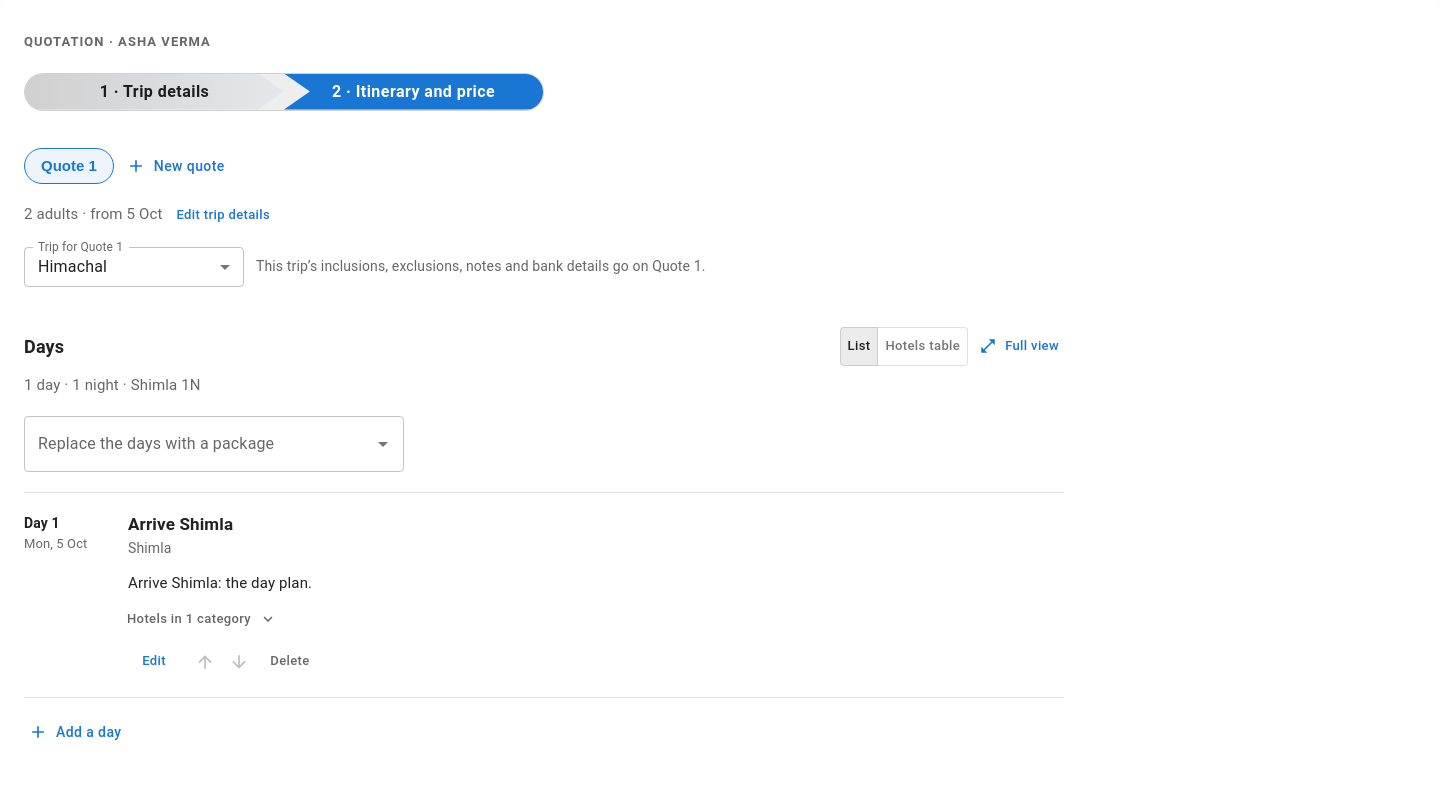
Scenario: Quotation for a verified lead › changing a quote’s trip saves it, and the quote is labelled with it
Press the mouse on the dropdown named "Trip for Quote 1" at [72, 267], box [38,257,107,276]
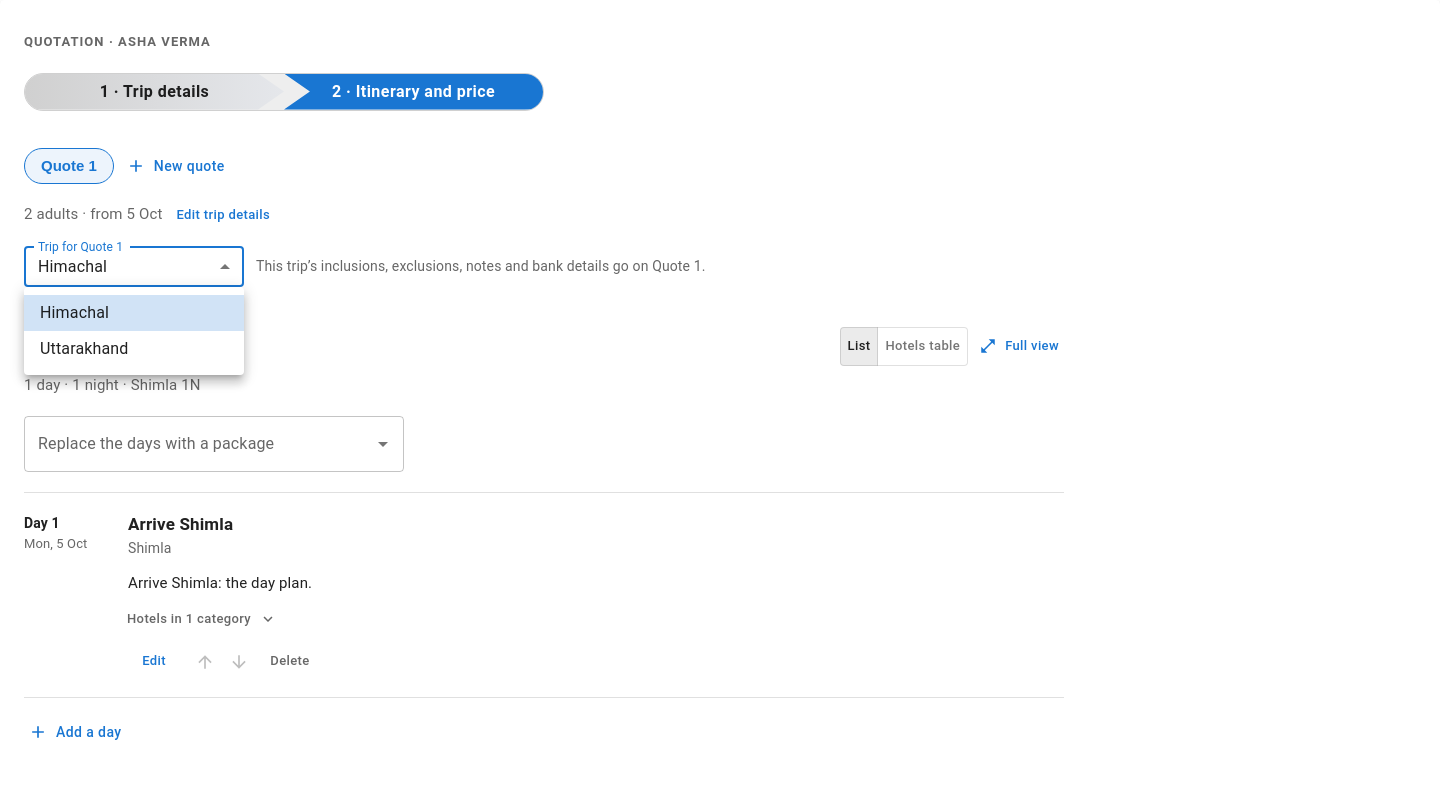
Click the option "Uttarakhand" at [84, 348], box [40,339,128,358]
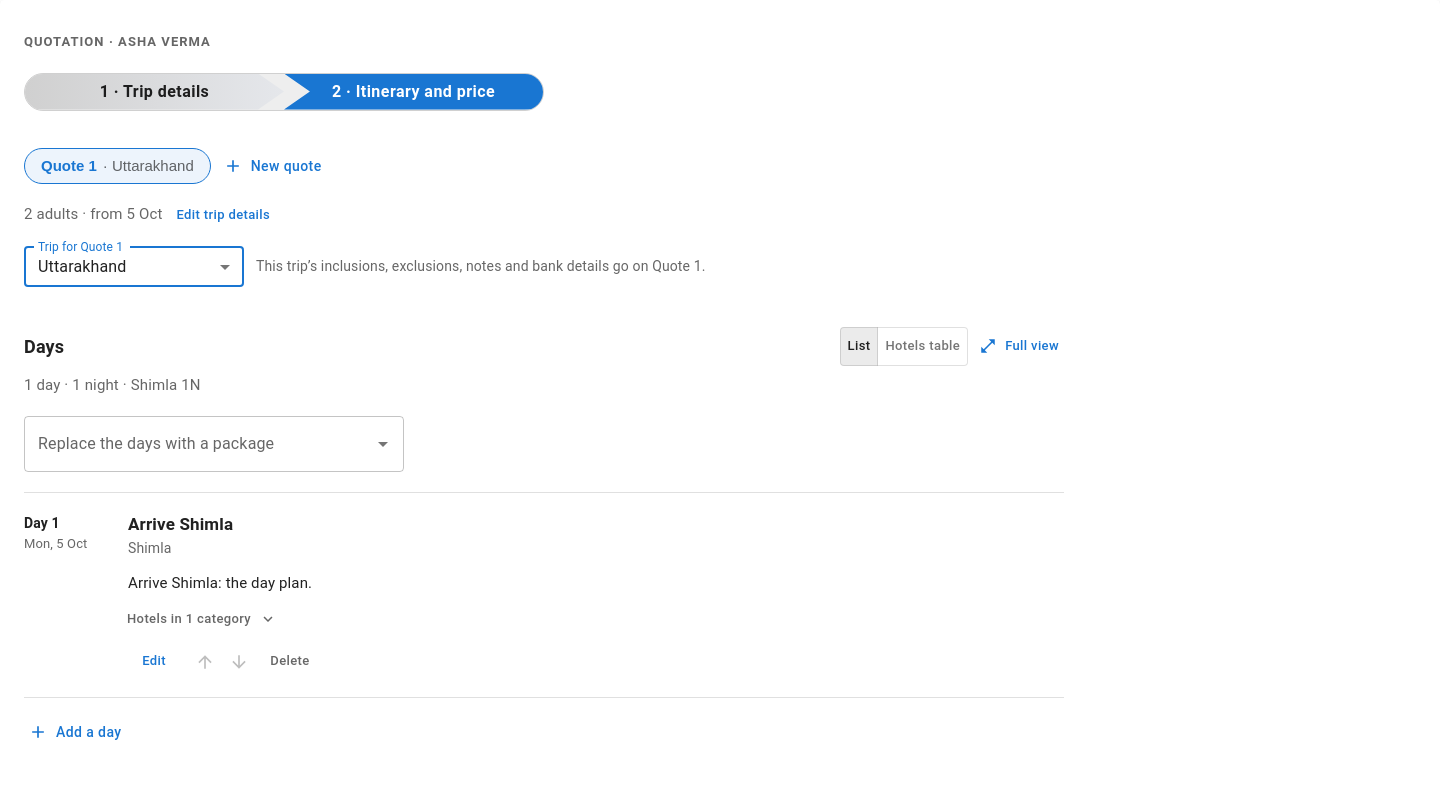
Check: the button "Quote 1 · Uttarakhand" is shown, box [24,148,211,184]
